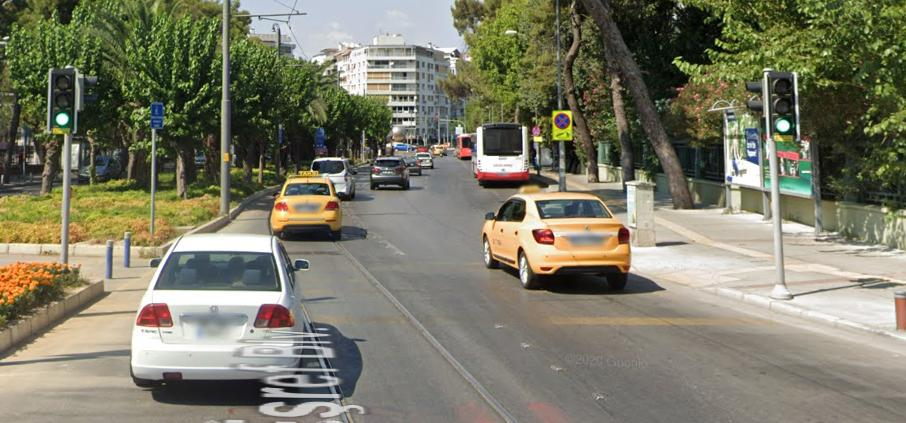greenlight: (767, 72, 801, 133), (50, 69, 77, 126)
